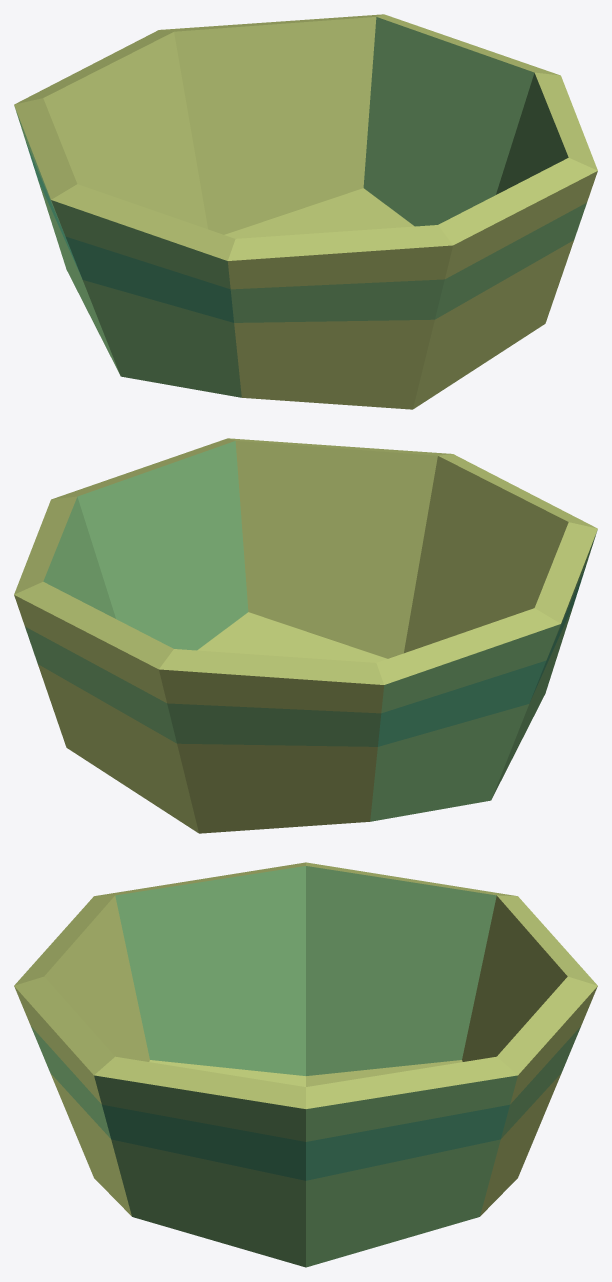
Rendered from Big Bowl.fbx.
3 views of the same model, one above another, from view 1: azimuth 30°, elevation 25°; view 2: azimuth 150°, elevation 25°; view 3: azimuth 270°, elevation 25° (orthographic).
Parts seen in each view (by area): view 1: Big Bowl; view 2: Big Bowl; view 3: Big Bowl.
Boxes of the visible parts, left/top/right/bottom form: Big Bowl: left=14, top=14, right=597, bottom=409; Big Bowl: left=14, top=438, right=597, bottom=833; Big Bowl: left=14, top=862, right=597, bottom=1267.
Bounding box in the file's own units: 54.91 × 25.33 × 54.91.
